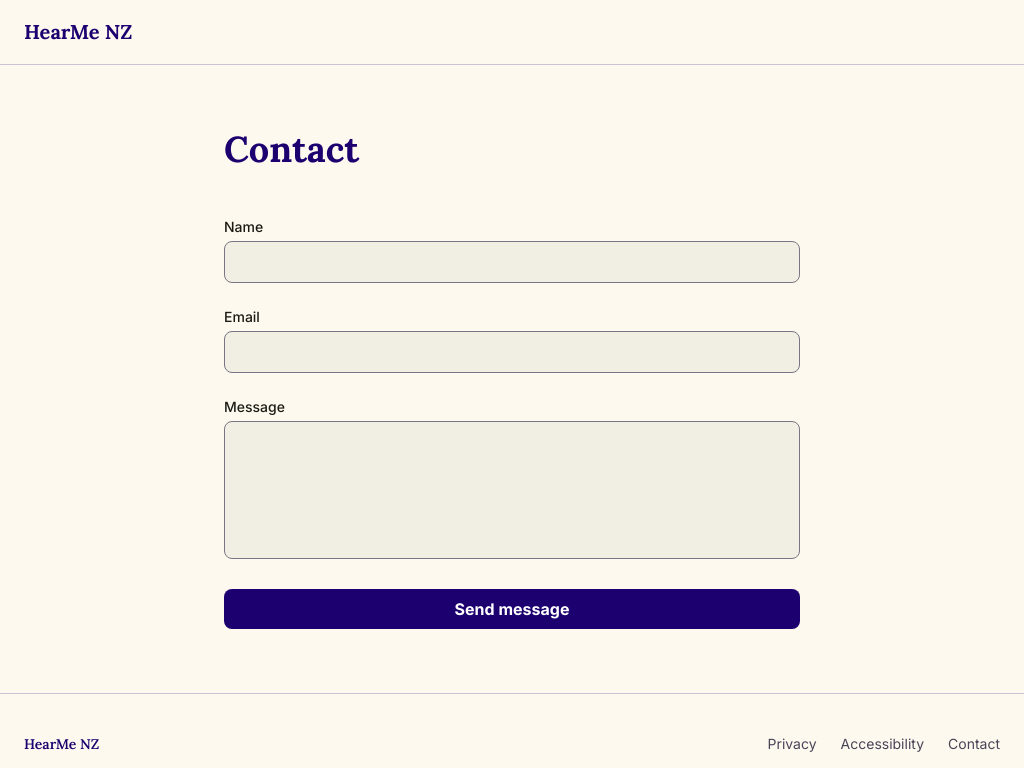
it: ContactPage › shows success message after successful send
Type "Alice" into the field labelled "Name".
click(512, 262); type("Alice")  # box [224,241,800,283]
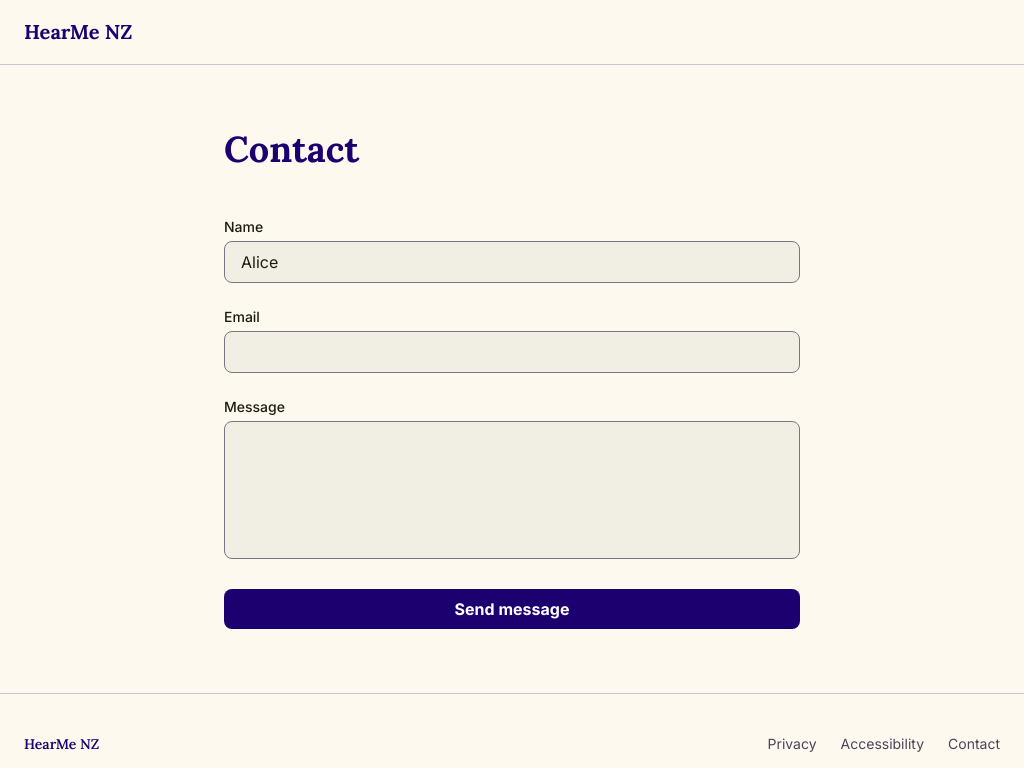
Type "alice@example.com" into the field labelled "Email".
click(512, 352); type("alice@example.com")  # box [224,331,800,373]
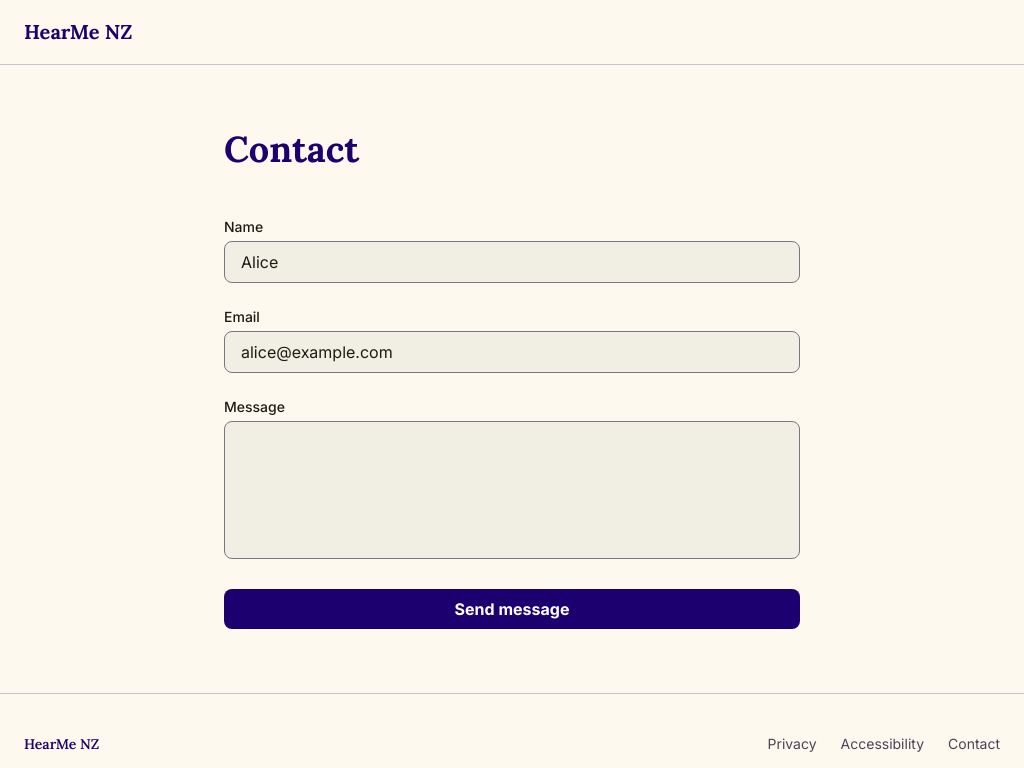
Type "Hello this is a long enough message" into the text box labelled "Message".
click(512, 490); type("Hello this is a long enough message")  # box [224,421,800,559]
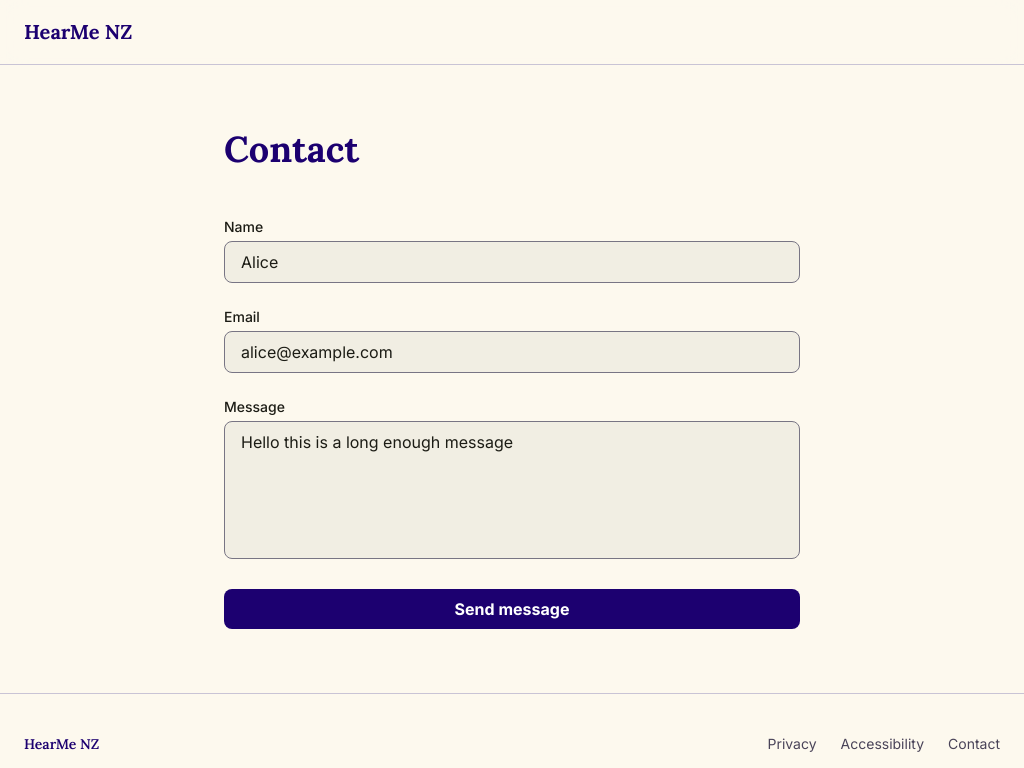
Click the button "Send message".
click(512, 609)  # box [224,589,800,629]
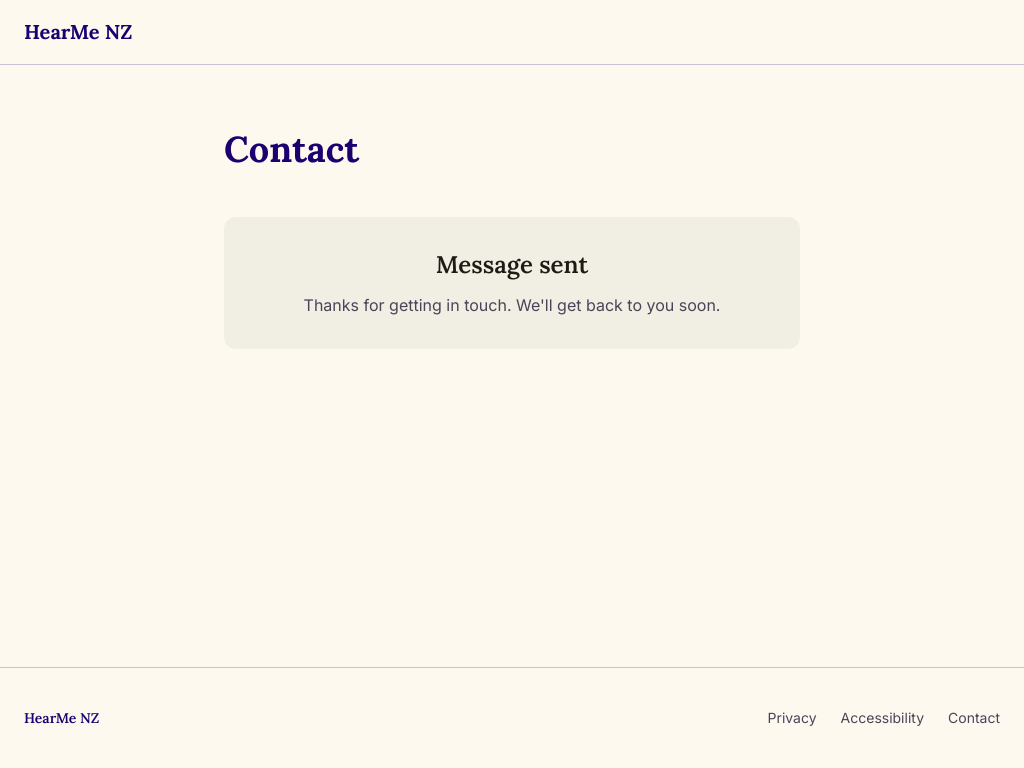
Check: the heading "Message sent" is shown, box [436,249,588,280]
